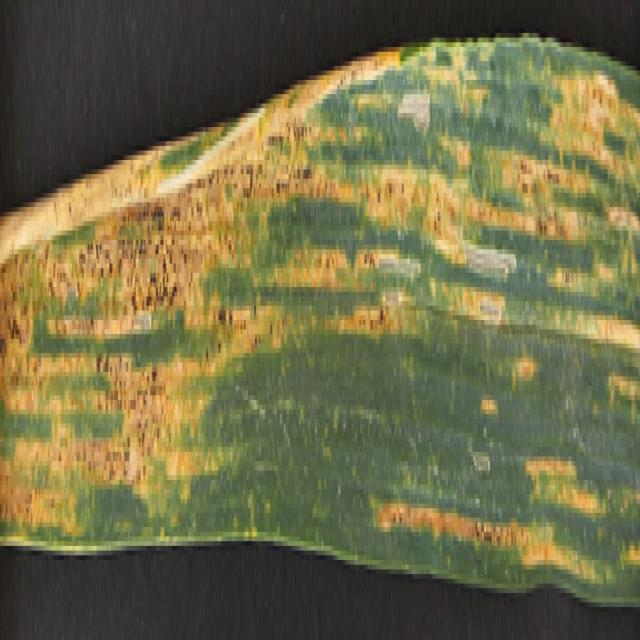leaf rust: (2, 42, 638, 574)
